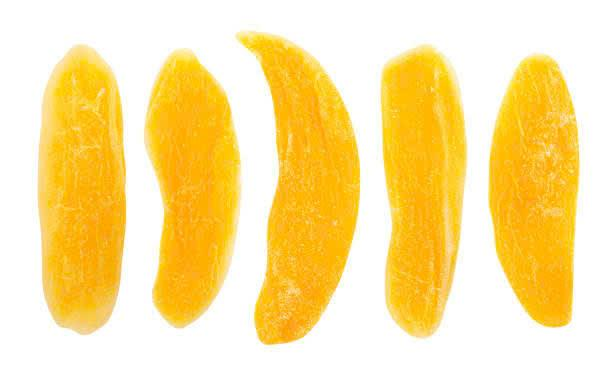mango: (251, 27, 350, 353), (135, 47, 243, 337), (39, 48, 132, 356), (501, 30, 579, 336), (380, 52, 463, 335)
